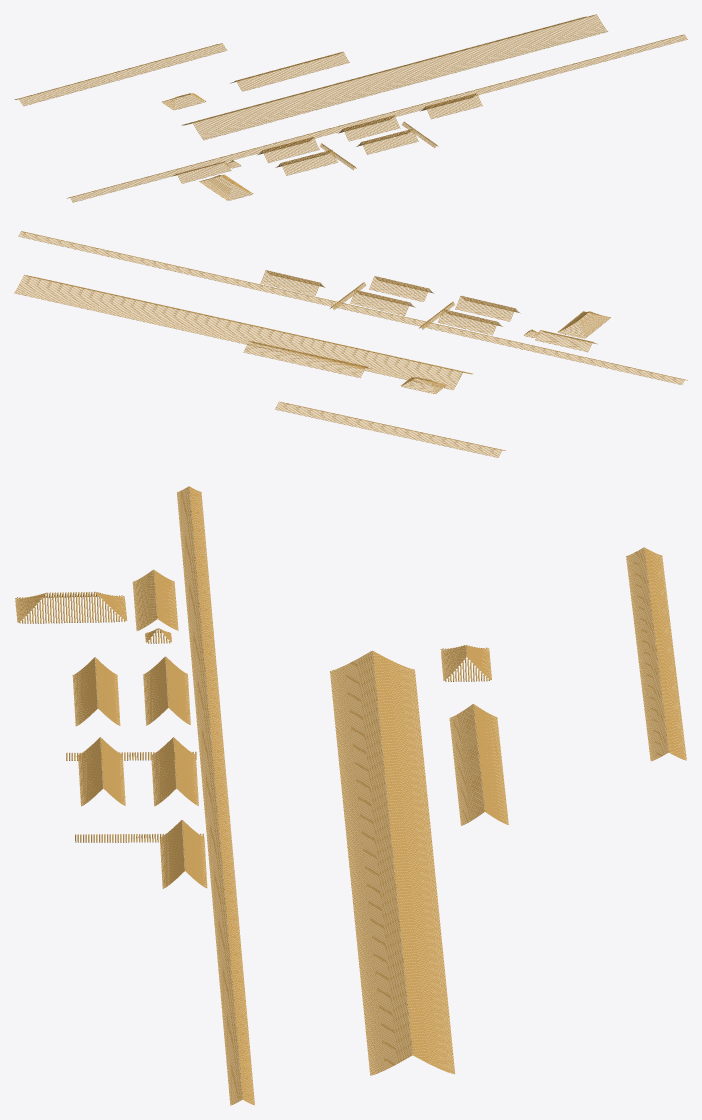
File: roof-tiles-4-10.glb
3 renders of one model, top to bottom at view 1: azimuth 30°, elevation 25°; view 2: azimuth 150°, elevation 25°; view 3: azimuth 270°, elevation 25°, orthographic. The views are drawn at different scales.
Parts seen in each view (by area): view 1: roof-tiles-4-10_micro_Roof_Glazed_Ochre; view 2: roof-tiles-4-10_micro_Roof_Glazed_Ochre; view 3: roof-tiles-4-10_micro_Roof_Glazed_Ochre.
Part boxes in pixels (left/top/right/bottom): roof-tiles-4-10_micro_Roof_Glazed_Ochre: left=14, top=14, right=687, bottom=202; roof-tiles-4-10_micro_Roof_Glazed_Ochre: left=14, top=231, right=687, bottom=457; roof-tiles-4-10_micro_Roof_Glazed_Ochre: left=15, top=486, right=686, bottom=1105.
Bounding box in the file's own units: 2.19 × 0.07 × 1.01.
